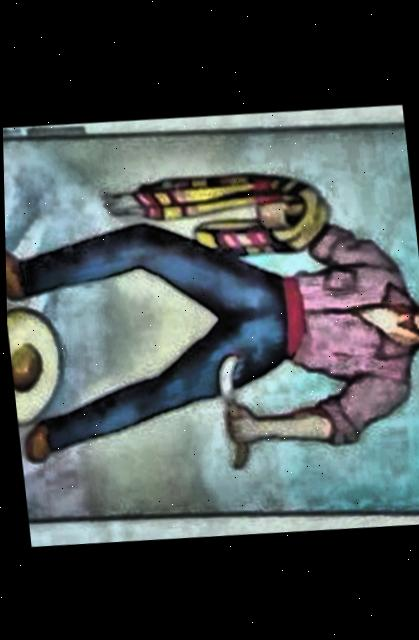El Valiente: (2, 121, 419, 518)
